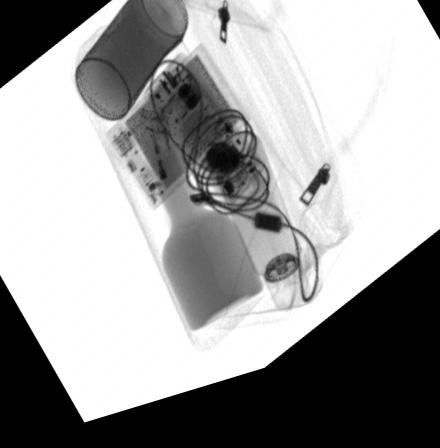Lighter: (142, 123, 187, 215)
Powerbank: (102, 57, 250, 219)
Sprayer: (210, 152, 312, 325)
